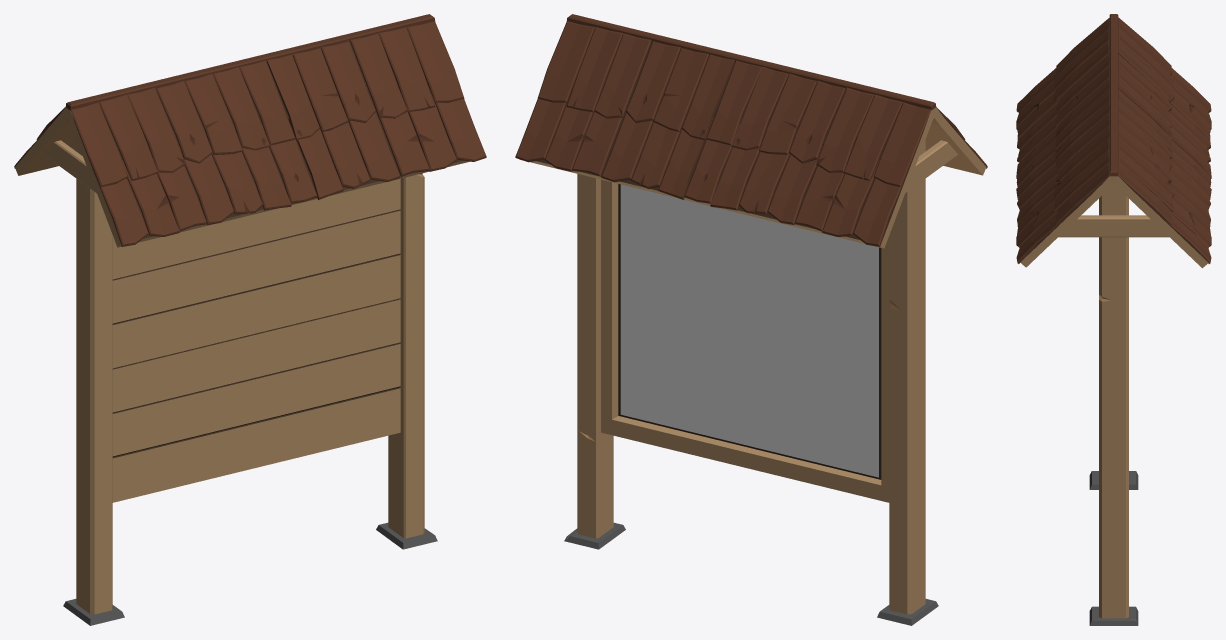
File: stojan_na_mapu.fbx
The picture shows the model from 3 angles, left to right: view 1: azimuth 30°, elevation 25°; view 2: azimuth 150°, elevation 25°; view 3: azimuth 270°, elevation 25°; orthographic projection. The views are drawn at different scales.
Parts seen in each view (by area): view 1: Cube; view 2: Cube; view 3: Cube.
Part boxes in pixels (bbox=[...]): Cube: bbox=[14, 14, 486, 625]; Cube: bbox=[515, 14, 987, 625]; Cube: bbox=[1016, 14, 1211, 625].
Size of the model in its own units: 604 by 813 by 315.
